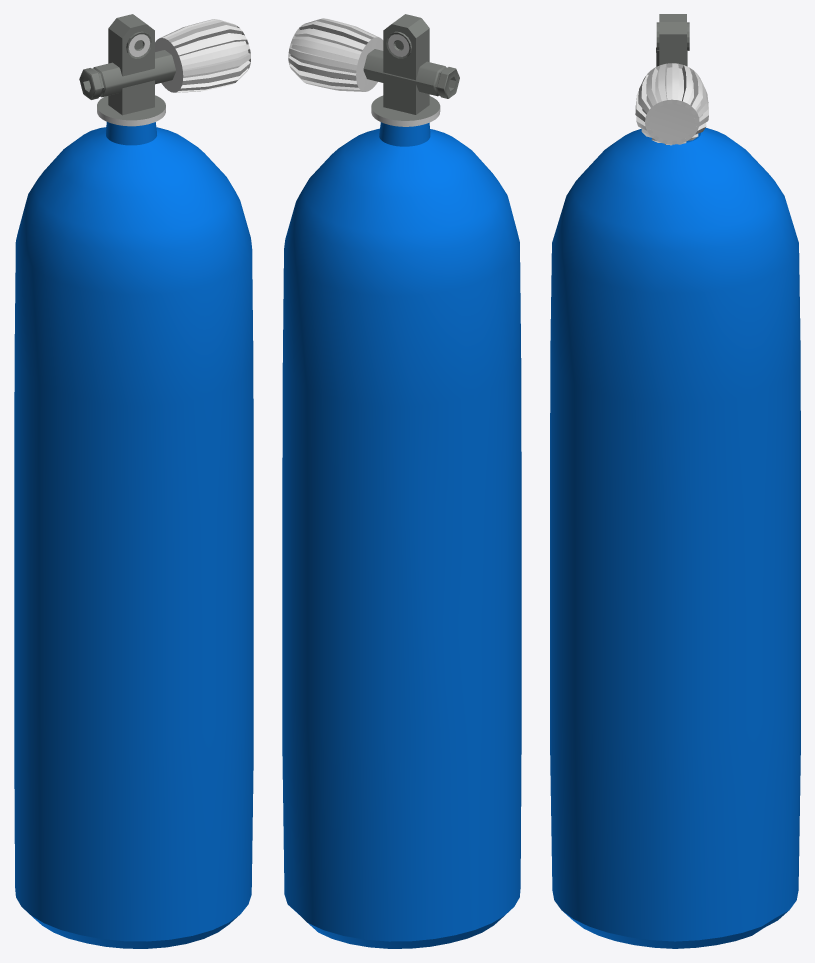
File: airPickup_small.fbx
The picture shows the model from 3 angles, left to right: view 1: azimuth 30°, elevation 25°; view 2: azimuth 150°, elevation 25°; view 3: azimuth 270°, elevation 25°; orthographic projection.
Parts seen in each view (by area): view 1: AirTankPickup.Small; view 2: AirTankPickup.Small; view 3: AirTankPickup.Small.
Part boxes in pixels (box(x1,y1,x2,y2)): AirTankPickup.Small: box(14, 14, 253, 948); AirTankPickup.Small: box(282, 14, 521, 948); AirTankPickup.Small: box(550, 14, 800, 948).
Size of the model in its own units: 15.19 by 61.64 by 15.84.
